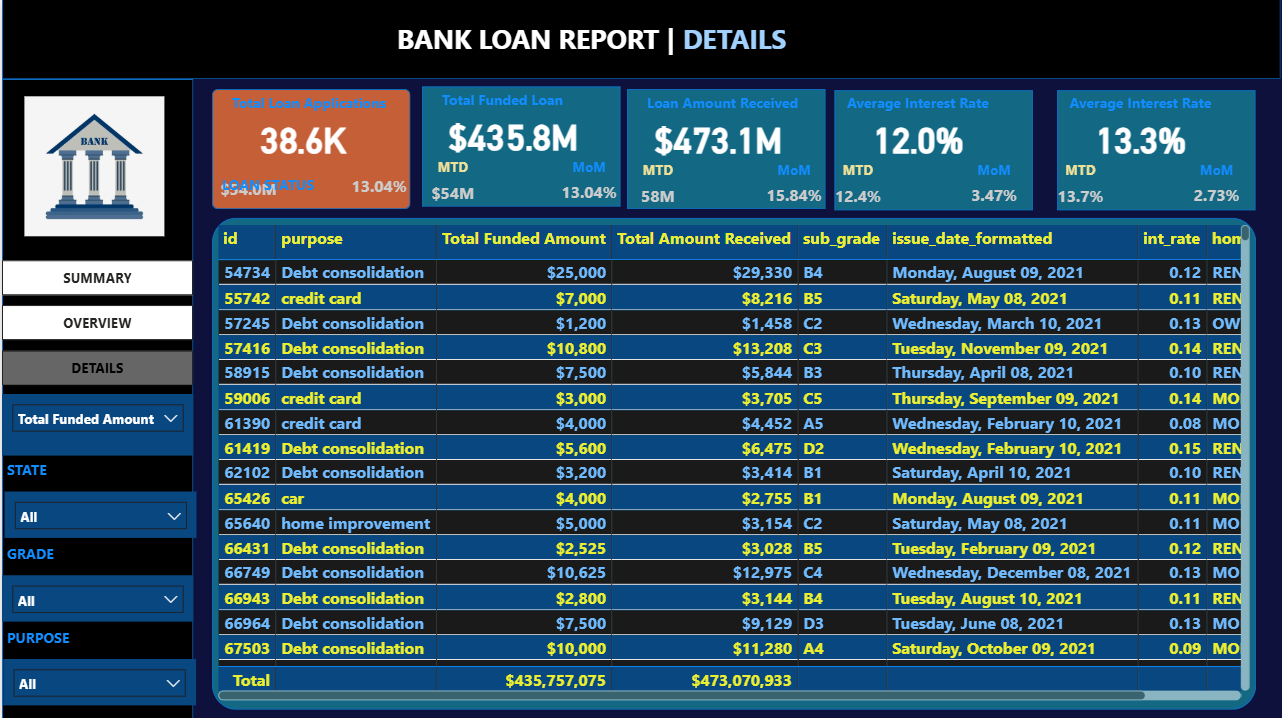

This screenshot's page, from the dashboard's own definition file:
{"tool":"powerbi","page":{"name":"DETAILS","canvas":[1280,720],"ordinal":2},"visuals":[{"type":"shape","box":[0,0,1278.8,80.3],"z":0},{"type":"shape","box":[419.6,87.3,198.5,120.2],"z":0,"group":"g3"},{"type":"shape","box":[209.8,89.7,198.5,120.2],"z":0,"group":"g2"},{"type":"shape","box":[624.5,89.7,198.5,120.2],"z":0,"group":"g4"},{"type":"shape","box":[831.5,90.4,198.5,120.2],"z":0,"group":"g5"},{"type":"shape","box":[1054.9,90.4,198.5,120.2],"z":0,"group":"g6"},{"type":"tableEx","fields":{"Values":["financial_loan_data_excel.id","financial_loan_data_excel.purpose","Date Table.Total Funded Amount","financial_loan_data_excel.Total Amount Received","financial_loan_data_excel.sub_grade","financial_loan_data_excel.issue_date_formatted","financial_loan_data_excel.int_rate","financial_loan_data_excel.home_ownership"]},"box":[210,222.4,1043,484.7],"z":0,"group":"g10"},{"type":"shape","box":[0,79.8,191.4,640.5],"z":1000},{"type":"card","fields":{"Values":["Date Table.Total Funded Amount"]},"box":[434.5,102.2,152.6,67.5],"z":1000,"group":"g3"},{"type":"card","fields":{"Values":["financial_loan_data_excel.Total Loan Applications"]},"box":[224.7,104.6,152.6,67.5],"z":1000,"group":"g2"},{"type":"card","fields":{"Values":["financial_loan_data_excel.Total Amount Received"]},"box":[639.4,104.6,152.6,67.5],"z":1000,"group":"g4"},{"type":"card","fields":{"Values":["financial_loan_data_excel.Average_Interest_Rate"]},"box":[839.4,104.6,152.6,67.5],"z":1000,"group":"g5"},{"type":"card","fields":{"Values":["financial_loan_data_excel.Average_Interest_DTI"]},"box":[1062.8,104.6,152.6,67.5],"z":1000,"group":"g6"},{"type":"group","id":"g1","title":"Group 4","box":[214.9,171.8,174.9,89.4],"z":1000,"group":"g10"},{"type":"textbox","box":[389.7,16.5,447.3,46.7],"z":2000},{"type":"textbox","box":[435,85.9,182.5,31.6],"z":2000,"group":"g3"},{"type":"textbox","box":[225.2,88.3,182.5,31.6],"z":2000,"group":"g2"},{"type":"textbox","box":[639.9,88.3,182.5,31.6],"z":2000,"group":"g4"},{"type":"textbox","box":[839.9,88.3,182.5,31.6],"z":2000,"group":"g5"},{"type":"textbox","box":[1063.3,88.3,182.5,31.6],"z":2000,"group":"g6"},{"type":"textbox","box":[0,456.4,182.8,36.8],"z":2000,"group":"g12"},{"type":"textbox","box":[0,539.9,171.1,37],"z":2000,"group":"g7"},{"type":"textbox","box":[0,623.3,171.1,37],"z":2000,"group":"g9"},{"type":"group","id":"g2","title":"Group 1","box":[209.8,88.3,205.3,130.9],"z":3000},{"type":"card","title":"MTD","fields":{"Values":["financial_loan_data_excel.MTD Loan Applications"]},"box":[419.6,158.9,62.1,58.1],"z":3000,"group":"g3"},{"type":"card","title":"MTD","fields":{"Values":["financial_loan_data_excel.MTD Amount Received"]},"box":[624.5,161.3,62.1,58.1],"z":3000,"group":"g4"},{"type":"card","title":"MTD","fields":{"Values":["financial_loan_data_excel.MTD Average Int"]},"box":[824.5,161.3,62.1,58.1],"z":3000,"group":"g5"},{"type":"card","title":"MTD","fields":{"Values":["financial_loan_data_excel.MTD Amount DTI"]},"box":[1047.9,161.3,62.1,58.1],"z":3000,"group":"g6"},{"type":"card","title":"MTD","fields":{"Values":["financial_loan_data_excel.MTD Loan Applications"]},"box":[210,166.4,73.6,52.8],"z":3000,"group":"g2"},{"type":"textbox","box":[214.9,171.8,175.2,89.8],"z":3000,"group":"g11"},{"type":"group","id":"g3","title":"Group 1","box":[419.6,85.9,204.9,130.1],"z":4000},{"type":"card","title":"MoM","fields":{"Values":["Date Table.MoM Loan Application"]},"box":[547.9,158.9,77,55.4],"z":4000,"group":"g3"},{"type":"card","title":"MoM","fields":{"Values":["Date Table.MoM Loan Application"]},"box":[338.1,161.3,77,55.4],"z":4000,"group":"g2"},{"type":"card","title":"MoM","fields":{"Values":["Date Table.MoM Loan Received %"]},"box":[752.8,161.3,77,55.4],"z":4000,"group":"g4"},{"type":"card","title":"MoM","fields":{"Values":["Date Table.MoM Average Interest Rate %"]},"box":[952.8,161.3,77,55.4],"z":4000,"group":"g5"},{"type":"card","title":"MoM","fields":{"Values":["Date Table.MoM Loan DTI %"]},"box":[1176.2,161.3,77,55.4],"z":4000,"group":"g6"},{"type":"group","id":"g4","title":"Group 1","box":[624.5,88.3,204.9,130.1],"z":5000},{"type":"group","id":"g5","title":"Group 1","box":[824.5,88.3,204.9,131.3],"z":6000},{"type":"group","id":"g6","title":"Group 1","box":[1047.9,88.3,204.9,130.1],"z":7000},{"type":"shape","box":[209.8,218.4,1044.2,492],"z":8000},{"type":"slicer","fields":{"Values":["financial_loan_data_excel.grade"]},"box":[0,576.7,191.4,46.6],"z":9000},{"type":"group","id":"g7","title":"Group 1","box":[0,539.9,170.6,36.8],"z":10000},{"type":"group","id":"g8","title":"Group 2","box":[0,456.4,195.1,83.4],"z":11000},{"type":"slicer","fields":{"Values":["financial_loan_data_excel.purpose"]},"box":[1.2,660.1,192.6,46.6],"z":12000},{"type":"group","id":"g9","title":"Group 1","box":[0,623.3,170.6,36.8],"z":13000},{"type":"slicer","fields":{"Values":["Select Major.Select Major"]},"box":[0,395.1,191.4,61.4],"z":15000},{"type":"group","id":"g10","title":"Group 7","box":[210,171.8,1043,535.2],"z":15001},{"type":"group","id":"g11","title":"Group 5","box":[214.9,171.8,175.2,89.8],"z":15002,"group":"g1"},{"type":"pageNavigator","box":[0,261.4,191.4,127.6],"z":15002},{"type":"image","box":[0,92,185.3,149.7],"z":15003},{"type":"slicer","fields":{"Values":["financial_loan_data_excel.address_state"]},"box":[2.5,492.9,192.4,46.6],"z":16000,"group":"g8"},{"type":"group","id":"g12","title":"Group 1","box":[0,456.4,182.8,36.8],"z":17000,"group":"g8"}]}

Visuals, with their boxes in screenshot pixels (x1, y1, x2, y2), scaled from the page's 1280x720 canvas onto the 1282x718 screenshot:
shape: (0,0,1281,80)
shape: (420,87,619,207)
shape: (210,89,409,209)
shape: (625,89,824,209)
shape: (833,90,1032,210)
shape: (1057,90,1255,210)
tableEx - financial_loan_data_excel.id x financial_loan_data_excel.purpose: (210,222,1255,705)
shape: (0,80,192,717)
card - Date Table.Total Funded Amount: (435,102,588,169)
card - financial_loan_data_excel.Total Loan Applications: (225,104,378,172)
card - financial_loan_data_excel.Total Amount Received: (640,104,793,172)
card - financial_loan_data_excel.Average_Interest_Rate: (841,104,994,172)
card - financial_loan_data_excel.Average_Interest_DTI: (1064,104,1217,172)
"Group 4" group: (215,171,390,260)
textbox: (390,16,838,63)
textbox: (436,86,618,117)
textbox: (226,88,408,120)
textbox: (641,88,824,120)
textbox: (841,88,1024,120)
textbox: (1065,88,1248,120)
textbox: (0,455,183,492)
textbox: (0,538,171,575)
textbox: (0,622,171,658)
"Group 1" group: (210,88,416,219)
"MTD" card: (420,158,482,216)
"MTD" card: (625,161,688,219)
"MTD" card: (826,161,888,219)
"MTD" card: (1050,161,1112,219)
"MTD" card: (210,166,284,219)
textbox: (215,171,391,261)
"Group 1" group: (420,86,625,215)
"MoM" card: (549,158,626,214)
"MoM" card: (339,161,416,216)
"MoM" card: (754,161,831,216)
"MoM" card: (954,161,1031,216)
"MoM" card: (1178,161,1255,216)
"Group 1" group: (625,88,831,218)
"Group 1" group: (826,88,1031,219)
"Group 1" group: (1050,88,1255,218)
shape: (210,218,1256,708)
slicer - financial_loan_data_excel.grade: (0,575,192,622)
"Group 1" group: (0,538,171,575)
"Group 2" group: (0,455,195,538)
slicer - financial_loan_data_excel.purpose: (1,658,194,705)
"Group 1" group: (0,622,171,658)
slicer - Select Major.Select Major: (0,394,192,455)
"Group 7" group: (210,171,1255,705)
"Group 5" group: (215,171,391,261)
pageNavigator: (0,261,192,388)
image: (0,92,186,241)
slicer - financial_loan_data_excel.address_state: (3,492,195,538)
"Group 1" group: (0,455,183,492)
